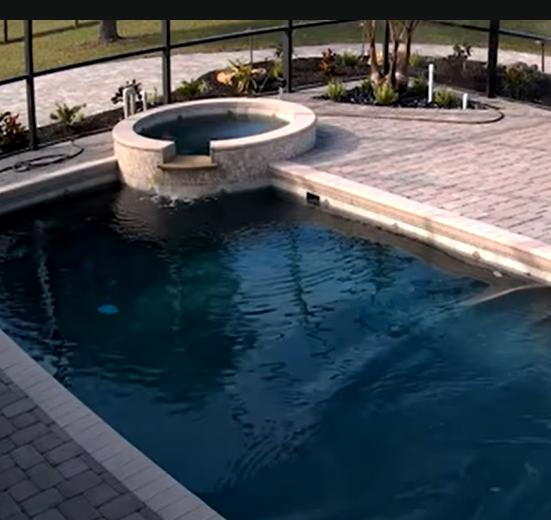NoHuman: (0, 2, 551, 520)
